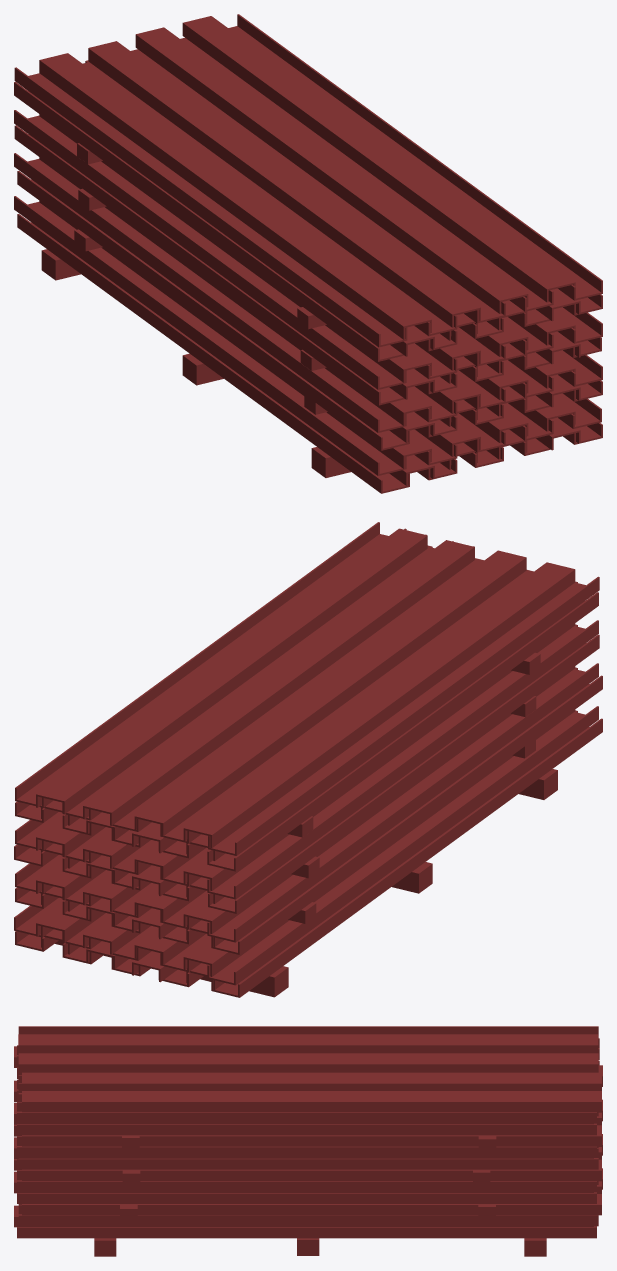
The model's file is SM_SteelBeam02Pack03.fbx.
The picture shows the model from 3 angles, top to bottom: view 1: azimuth 30°, elevation 25°; view 2: azimuth 150°, elevation 25°; view 3: azimuth 270°, elevation 25°; orthographic projection. The views are drawn at different scales.
Visible parts, largest first — view 1: SteelBeam02Pack03; view 2: SteelBeam02Pack03; view 3: SteelBeam02Pack03.
Boxes of the visible parts, x1,y1,x2,y2 form: SteelBeam02Pack03: (14, 14, 602, 493); SteelBeam02Pack03: (14, 522, 602, 997); SteelBeam02Pack03: (14, 1026, 602, 1256).
Bounding box in the file's own units: 116 × 81.46 × 305.
